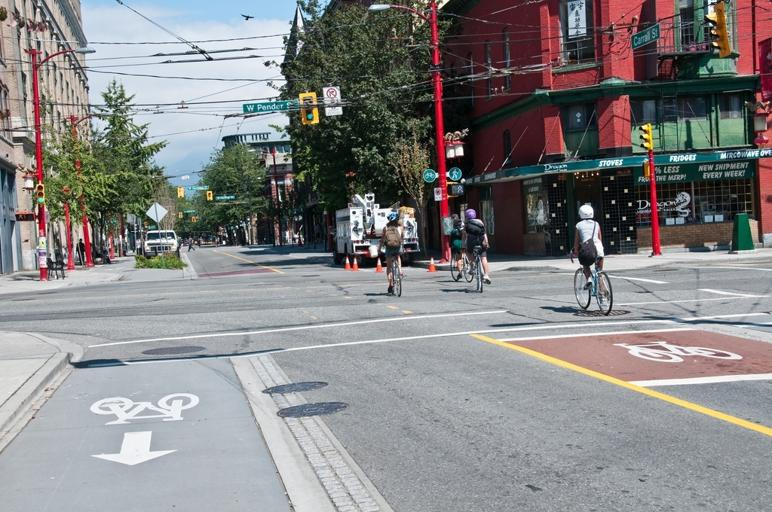non-vehicle: (569, 247, 612, 315), (446, 236, 473, 283), (462, 244, 487, 293), (378, 250, 403, 297)
